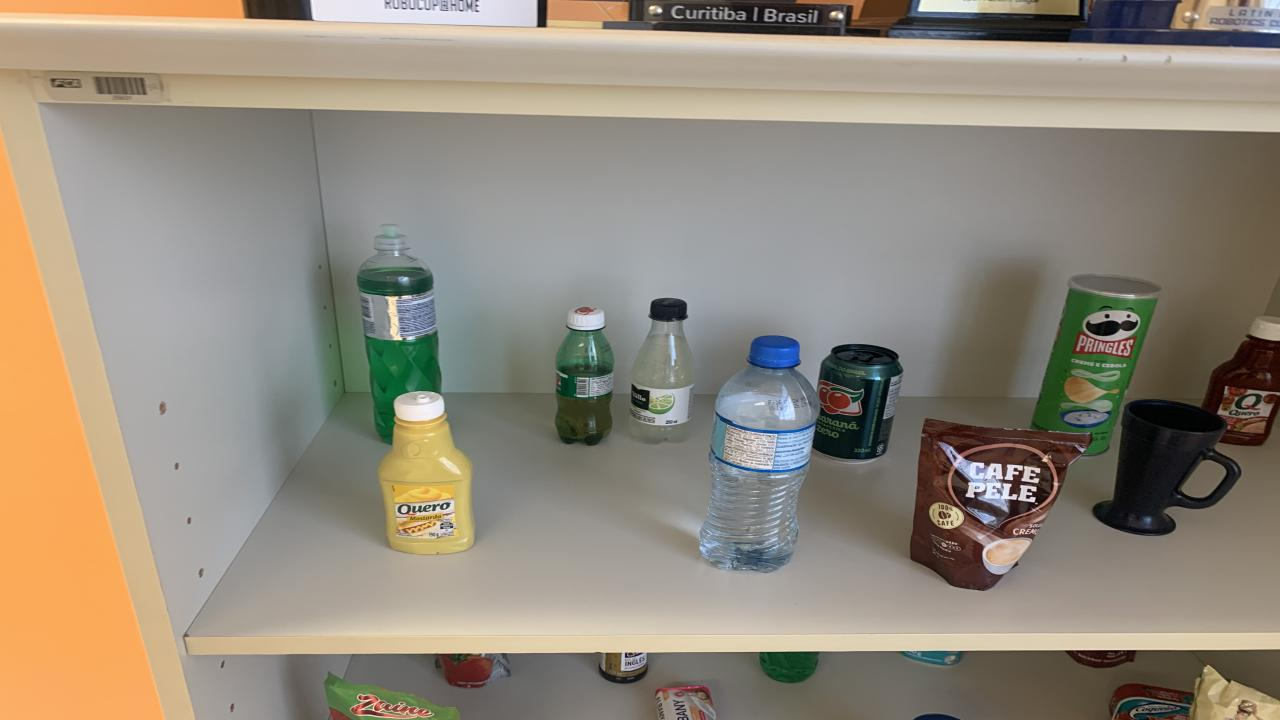Cleaner-Cleanup_Items: (902, 651, 962, 666)
Coffee-Pantry_Items: (910, 418, 1090, 591)
Detergent-Cleanup_Items: (358, 225, 442, 442), (760, 652, 818, 682)
English_Sauce-Pantry_Items: (600, 652, 648, 682)
Flakes-Snacks: (1190, 666, 1280, 720)
Guarana-Drinks: (555, 308, 615, 444)
Guarana_Can-Drinks: (815, 343, 902, 463)
Ketchup-Pantry_Items: (1202, 317, 1280, 446)
Mustard-Pantry_Items: (378, 392, 475, 555)
Pringles-Snacks: (1030, 274, 1160, 456)
Soap-Cleanup_Items: (655, 686, 718, 720)
Soda-Drinks: (630, 298, 695, 444)
Tomato_Sauce-Pantry_Items: (325, 673, 460, 720), (438, 652, 510, 688), (1068, 651, 1135, 669)
Tuna_Can-Pantry_Items: (1110, 682, 1192, 720)
Water_Bottle-Drinks: (700, 336, 820, 572)
